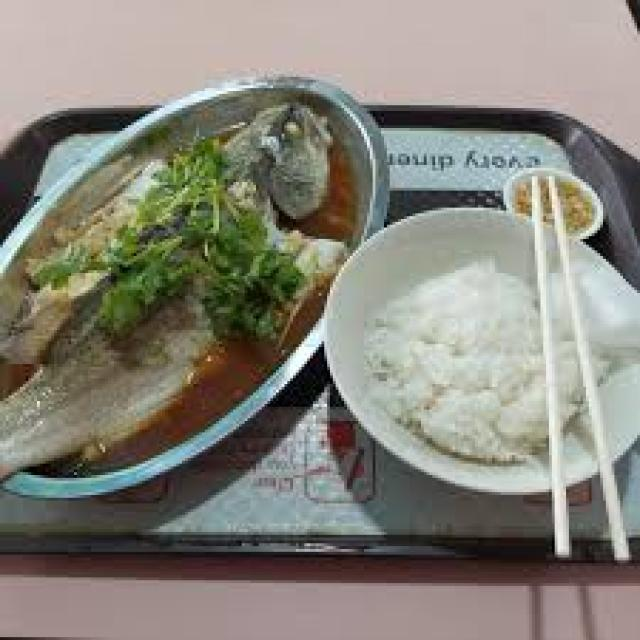Fish: (0, 102, 341, 466)
Rice: (367, 262, 549, 458), (552, 338, 580, 427)
